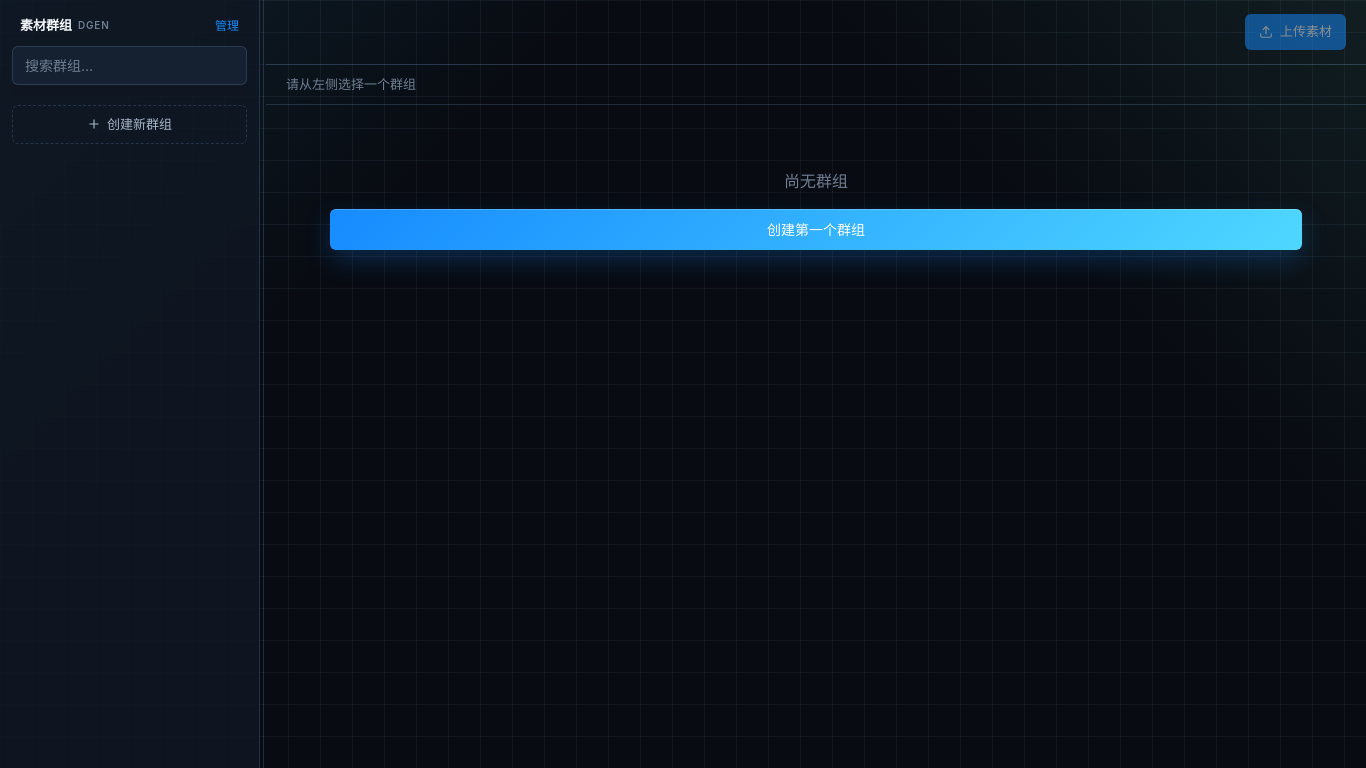
AssetLibraryPage — build first group (ConfirmModal) › build first group opens ConfirmModal with input (no window.prompt)
This screenshot has width=1366, height=768.
Click the button "创建第一个群组".
click(816, 230)  # box [330,209,1302,250]
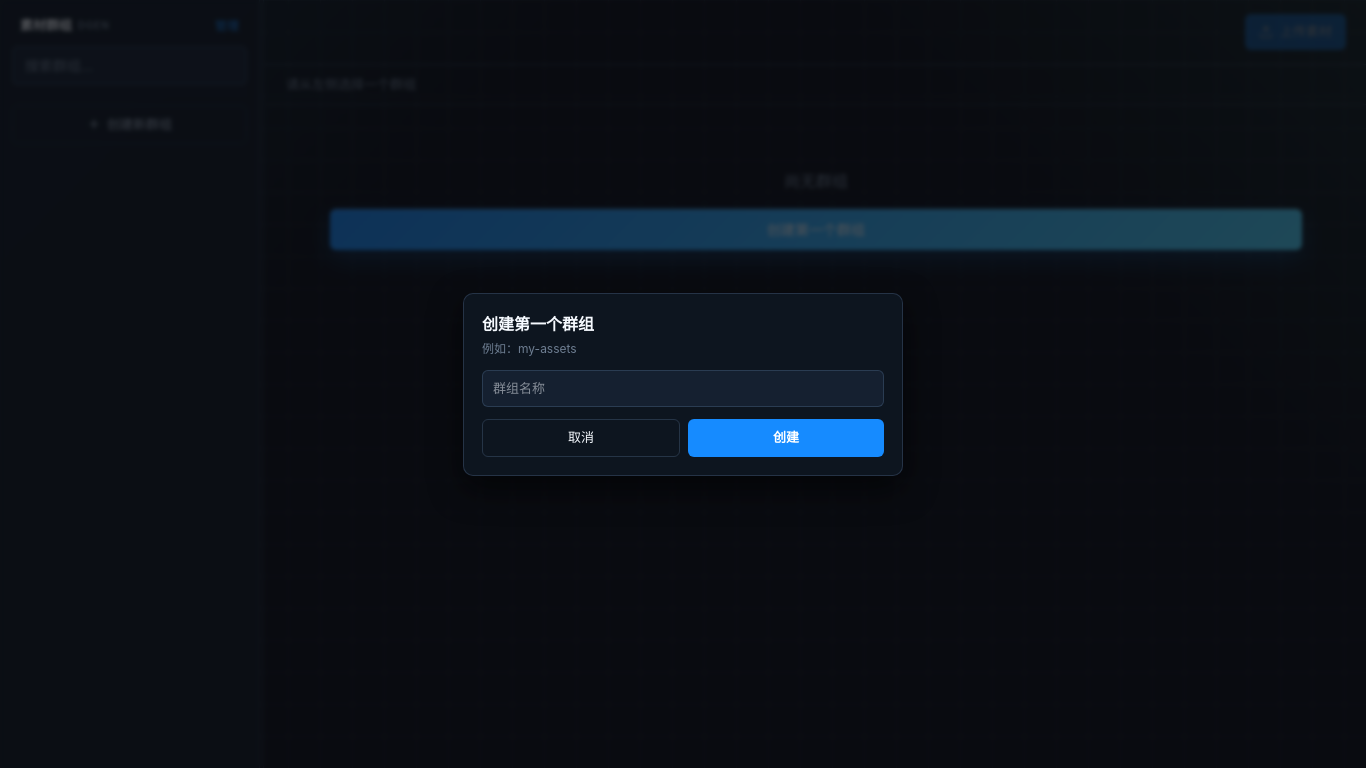
Expected: the dialog is shown
Expected: the field with placeholder "群组名称" is shown, [482,370,884,407]
